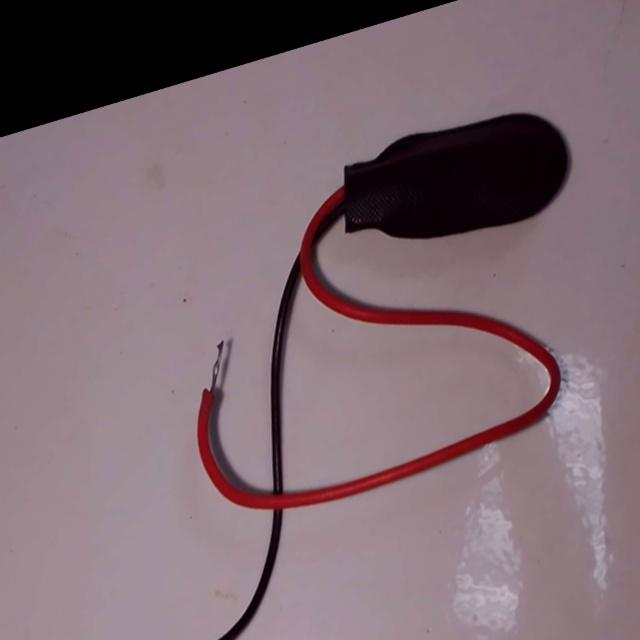Battery Holder: (178, 62, 591, 566)
